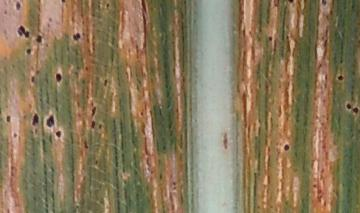tarspot: (16, 24, 30, 39), (45, 114, 55, 127), (90, 106, 98, 118), (54, 129, 63, 139), (31, 114, 39, 125), (71, 32, 80, 41), (35, 34, 43, 44), (55, 72, 62, 83), (82, 140, 89, 150), (102, 79, 110, 87), (283, 143, 290, 152), (5, 114, 12, 123), (352, 106, 359, 114), (336, 74, 344, 81), (345, 102, 352, 110), (90, 119, 96, 128), (15, 1, 20, 11), (138, 110, 145, 117), (30, 75, 35, 84), (285, 33, 290, 42), (25, 48, 31, 55), (11, 131, 17, 138), (84, 64, 89, 72), (267, 35, 273, 41), (320, 1, 327, 6), (105, 2, 110, 9), (3, 8, 8, 15), (286, 1, 294, 4), (60, 1, 66, 3)
